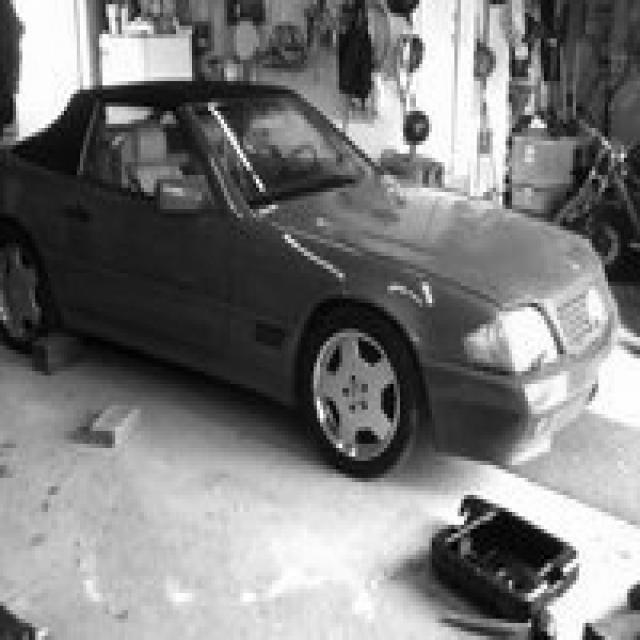car: (0, 77, 618, 478)
